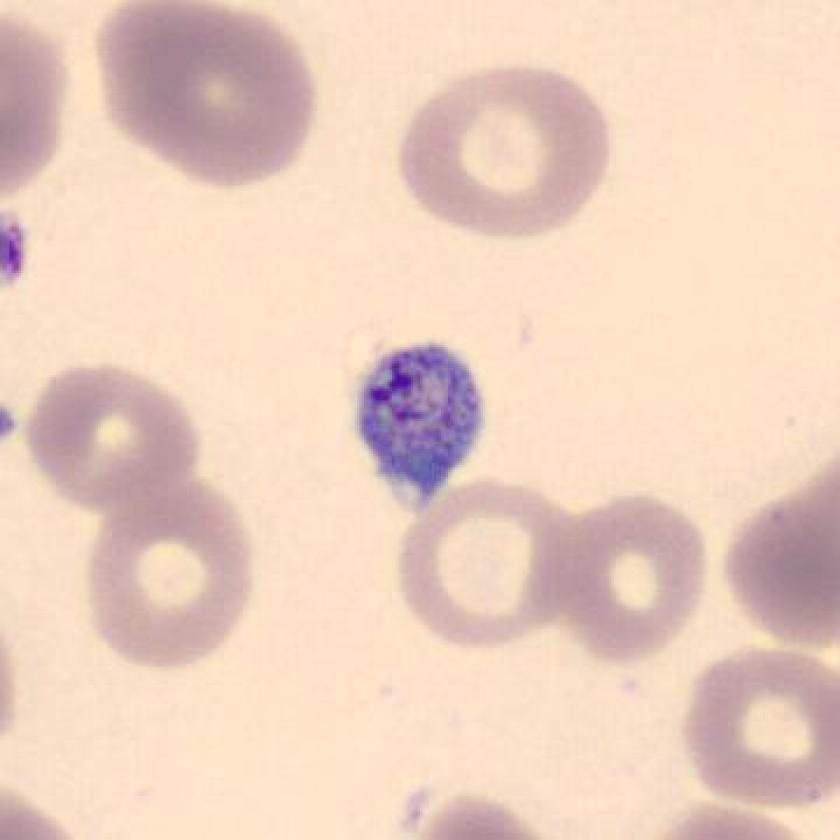platelets: (346, 328, 496, 520)
